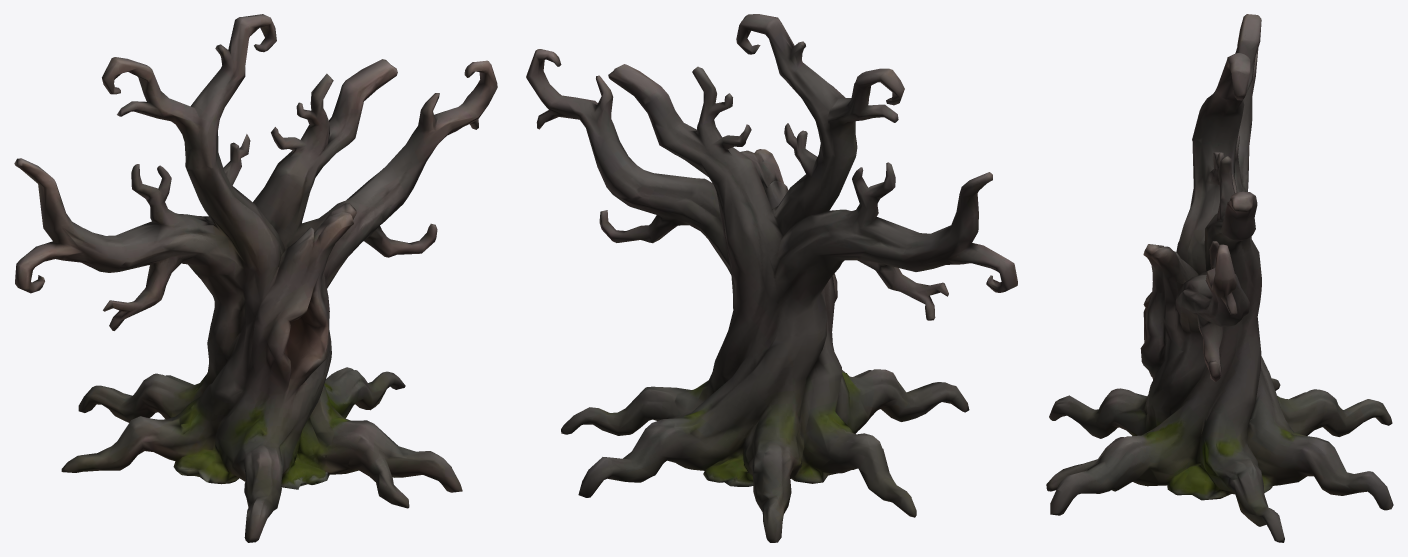
Rendered from gy_tree-B6Fv_t4P.glb.
3 views of the same model, side by side, from view 1: azimuth 30°, elevation 25°; view 2: azimuth 150°, elevation 25°; view 3: azimuth 270°, elevation 25° (orthographic). The views are drawn at different scales.
Parts seen in each view (by area): view 1: tripo_node_8f3fb4d9-d4e5-4b10-a742-ef60ee8e0fd0; view 2: tripo_node_8f3fb4d9-d4e5-4b10-a742-ef60ee8e0fd0; view 3: tripo_node_8f3fb4d9-d4e5-4b10-a742-ef60ee8e0fd0.
Boxes of the visible parts, bbox=[...] form: tripo_node_8f3fb4d9-d4e5-4b10-a742-ef60ee8e0fd0: bbox=[14, 14, 497, 542]; tripo_node_8f3fb4d9-d4e5-4b10-a742-ef60ee8e0fd0: bbox=[526, 14, 1017, 542]; tripo_node_8f3fb4d9-d4e5-4b10-a742-ef60ee8e0fd0: bbox=[1046, 14, 1393, 542].
Bounding box in the file's own units: 1 × 0.8656 × 0.6678.
Materials: 1 (1 with a texture image).
